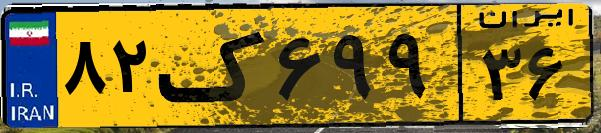2: (110, 28, 158, 98)
3: (475, 38, 525, 113)
6: (270, 28, 330, 110), (525, 38, 570, 115)
8: (57, 26, 110, 100)
9: (385, 28, 445, 110), (330, 28, 385, 110)
ک: (158, 12, 270, 120)
